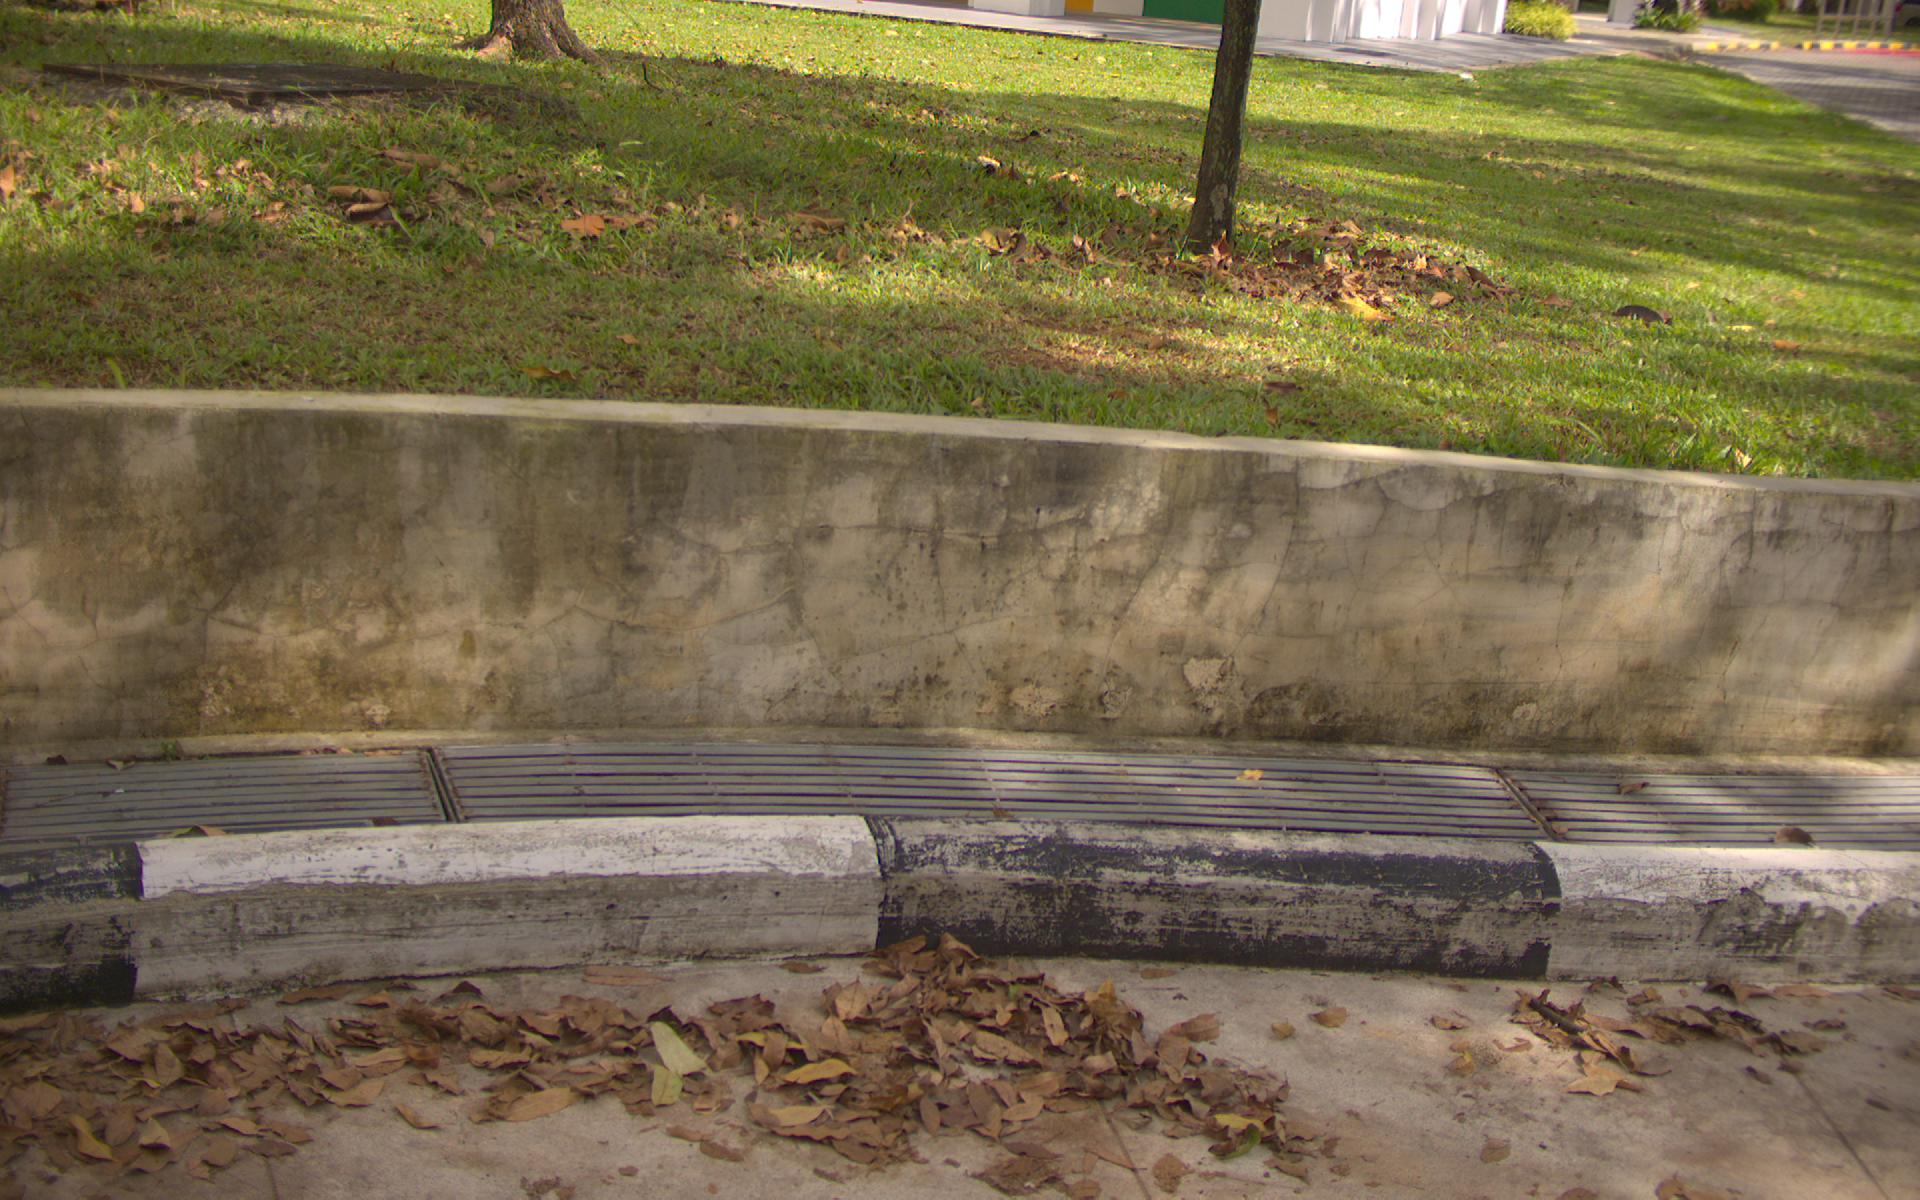curb_dic_low: (140, 731, 1920, 816)
road_curb_medium: (111, 977, 1920, 1200)
road_turf_low: (26, 68, 1767, 390)
